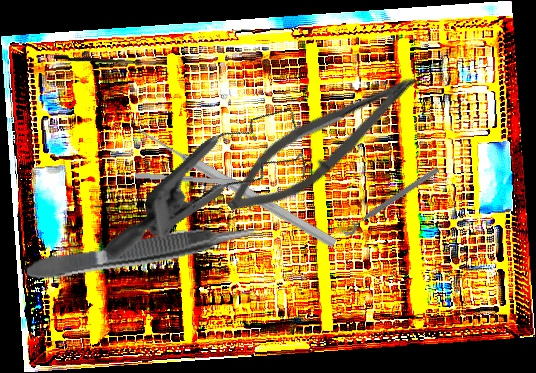Fixation Ring: (336, 158, 442, 239)
Hook Surgical: (134, 172, 266, 188), (53, 55, 168, 65)
Micro Scissor: (214, 49, 429, 235)
Pusher: (134, 123, 339, 250)
Speculum: (102, 61, 330, 319)
Tissue Forceps: (24, 217, 263, 285)
